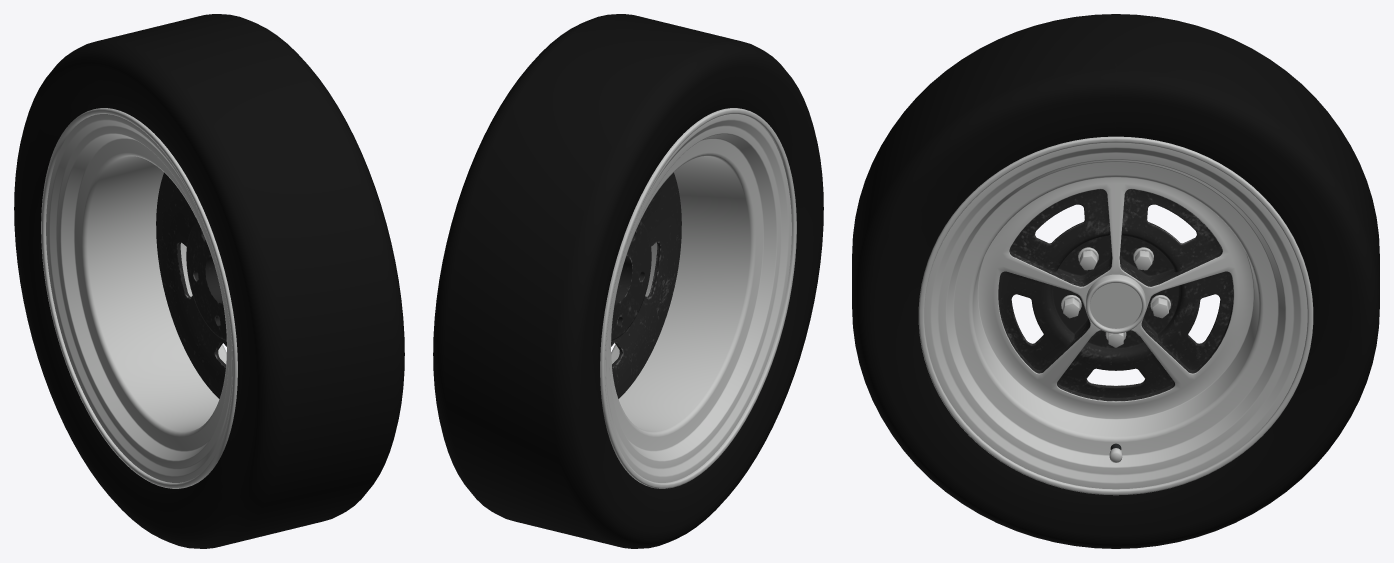
Rendered from wheel-mustang64.glb.
3 renders of one model, left to right at view 1: azimuth 30°, elevation 25°; view 2: azimuth 150°, elevation 25°; view 3: azimuth 270°, elevation 25°, orthographic.
Parts seen in each view (by area): view 1: Wheel FL; view 2: Wheel FL; view 3: Wheel FL.
Boxes of the visible parts, <box> form: Wheel FL: <box>14,14,404,548</box>; Wheel FL: <box>433,14,823,548</box>; Wheel FL: <box>852,14,1379,548</box>.
Size of the model in its own units: 0.2088 by 0.6426 by 0.6426.
1 material, 1 textured.
